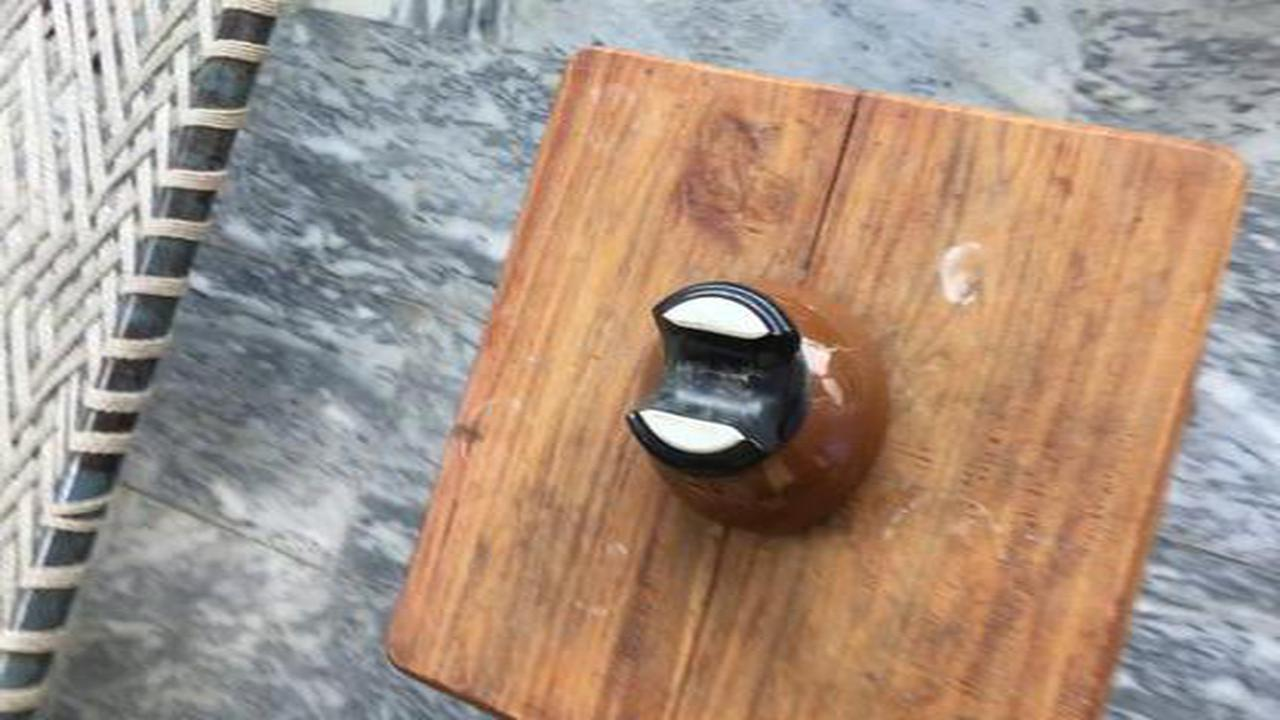insulator_pin: (613, 264, 917, 549)
